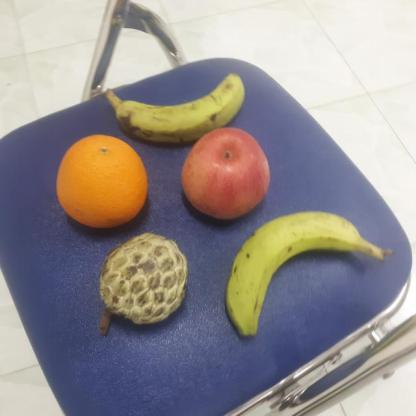annona: (95, 231, 190, 330)
apple: (178, 125, 273, 221)
banana: (224, 209, 364, 338), (114, 69, 247, 146)
orange: (52, 131, 151, 230)
